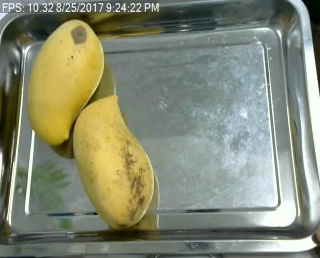Mango: (71, 94, 156, 228), (24, 17, 108, 147)
